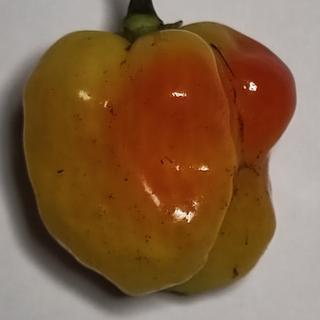Fly-bites: (224, 265, 250, 284), (50, 158, 69, 180)
striped: (204, 38, 239, 77), (233, 105, 249, 155)
